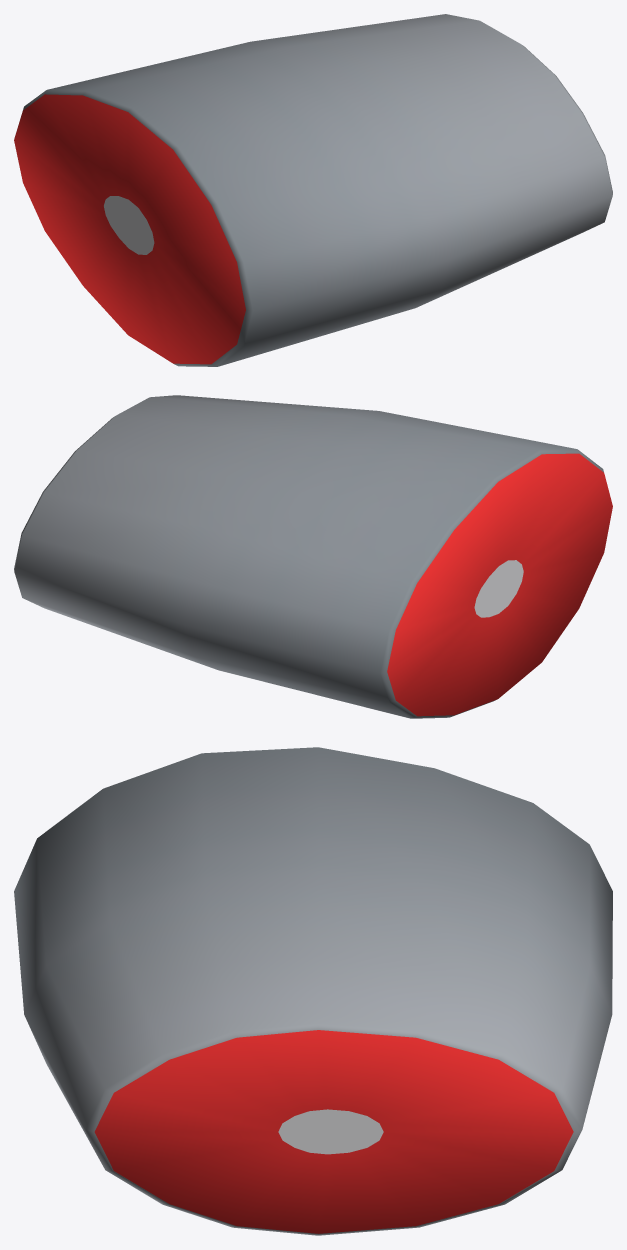
The model's file is Fish_01.2.fbx.
The picture shows the model from 3 angles, top to bottom: view 1: azimuth 30°, elevation 25°; view 2: azimuth 150°, elevation 25°; view 3: azimuth 270°, elevation 25°; orthographic projection. The views are drawn at different scales.
Parts seen in each view (by area): view 1: Fish_01.2; view 2: Fish_01.2; view 3: Fish_01.2.
Boxes of the visible parts, box(x1,y1,x2,y2) form: Fish_01.2: box(14, 14, 612, 366); Fish_01.2: box(14, 395, 612, 718); Fish_01.2: box(14, 747, 612, 1235).
Size of the model in its own units: 101 by 105 by 55.67.
